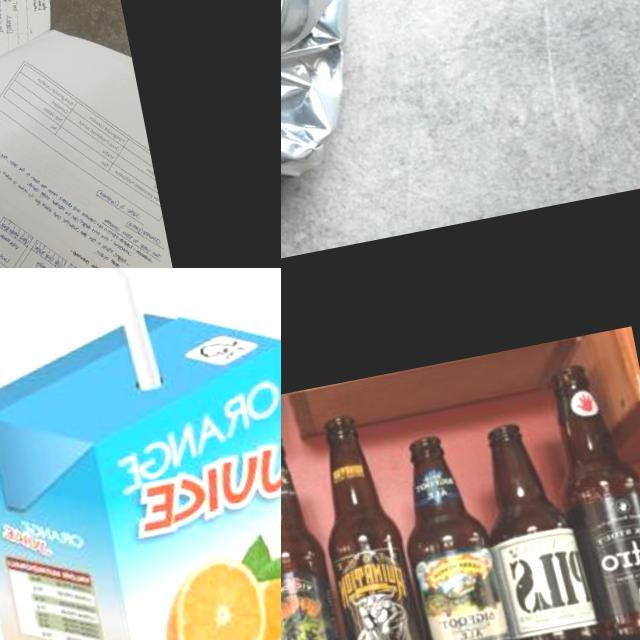caixinha: (0, 286, 281, 640)
garrafa de vidro: (466, 413, 605, 640), (304, 410, 431, 640), (537, 357, 640, 640), (386, 429, 516, 640), (281, 427, 357, 640)
lata: (281, 0, 383, 207)
papel: (0, 0, 200, 268)
